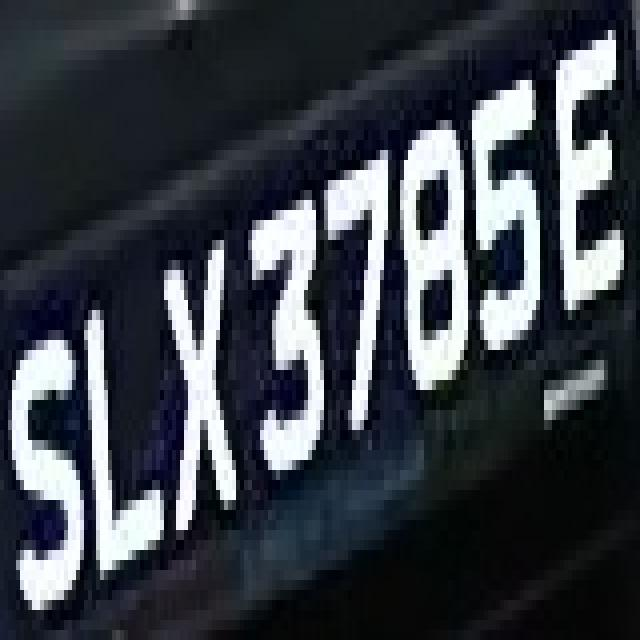3: (248, 190, 332, 500)
5: (460, 50, 544, 340)
7: (308, 150, 412, 460)
8: (392, 130, 472, 430)
E: (548, 30, 632, 340)
L: (84, 270, 172, 590)
S: (4, 300, 84, 640)
X: (156, 240, 240, 550)
